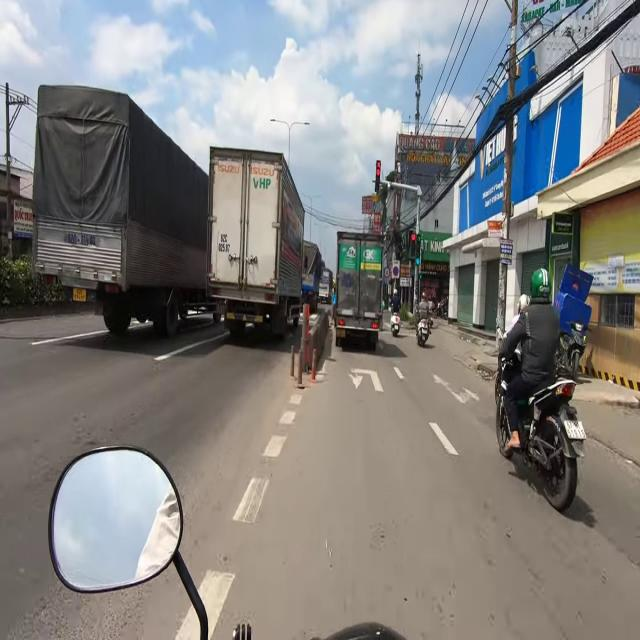bien_trang: (562, 419, 586, 442)
